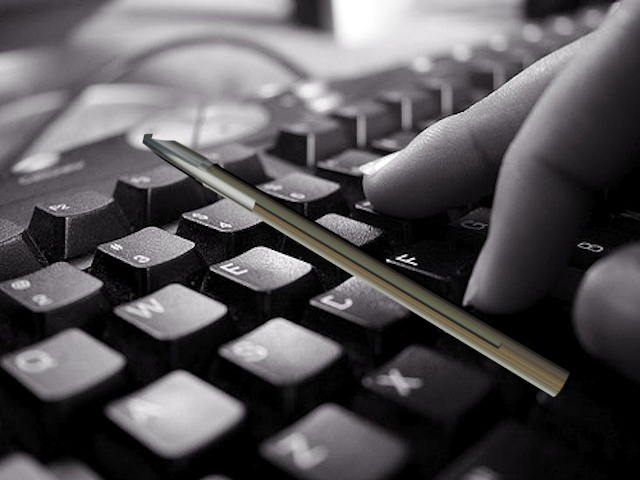pen: (137, 129, 576, 400)
